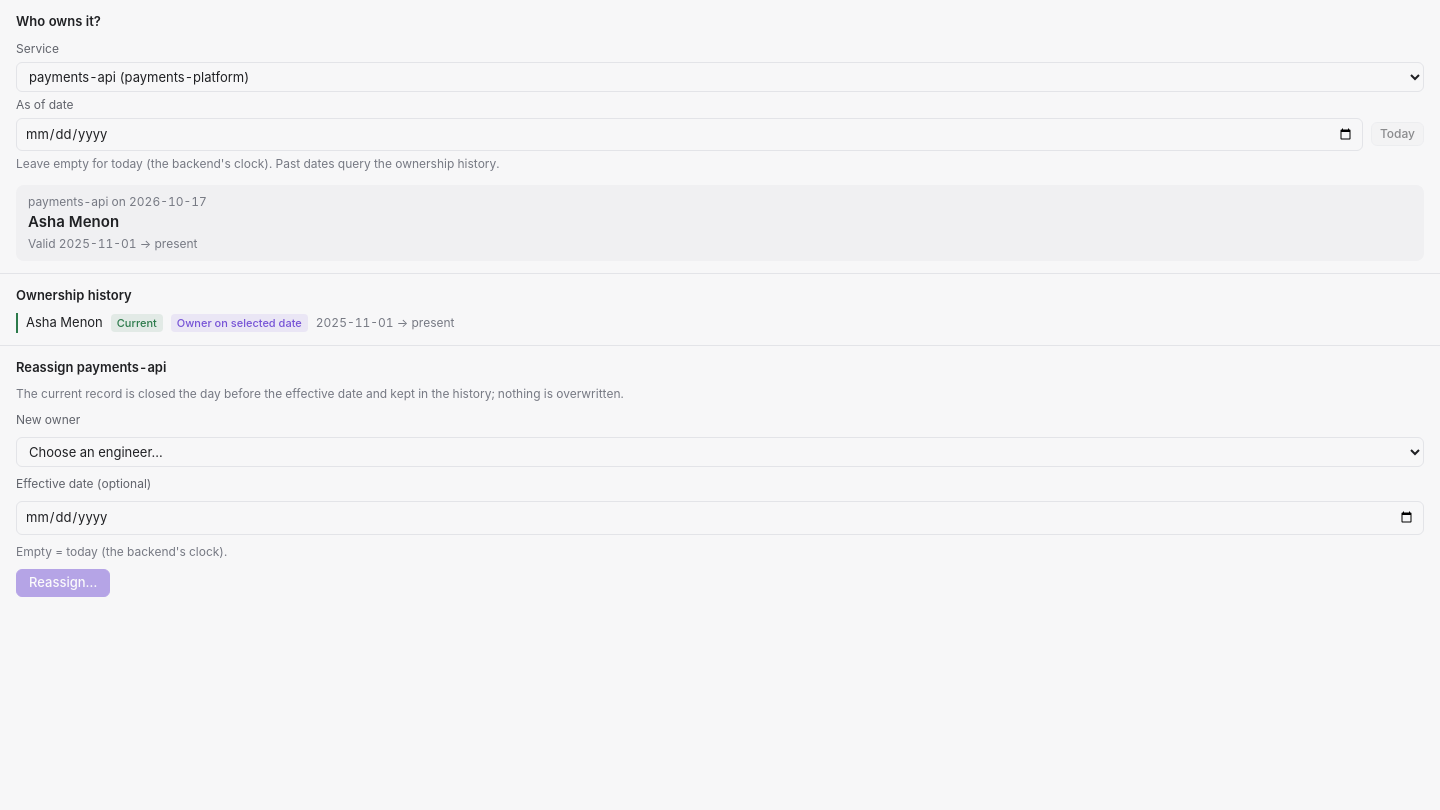
Scenario: OwnersPanel lookup › sends the chosen historical date unchanged and shows the owner the API returns for it
The image size is (1440, 810).
Expected: the text "Asha Menon" below "2026-10-17" is shown, left=28, top=212, right=119, bottom=231
Step 1. Type "2026-07-15" into the date field labelled "As of date" → (689, 134), box left=16, top=118, right=1363, bottom=151
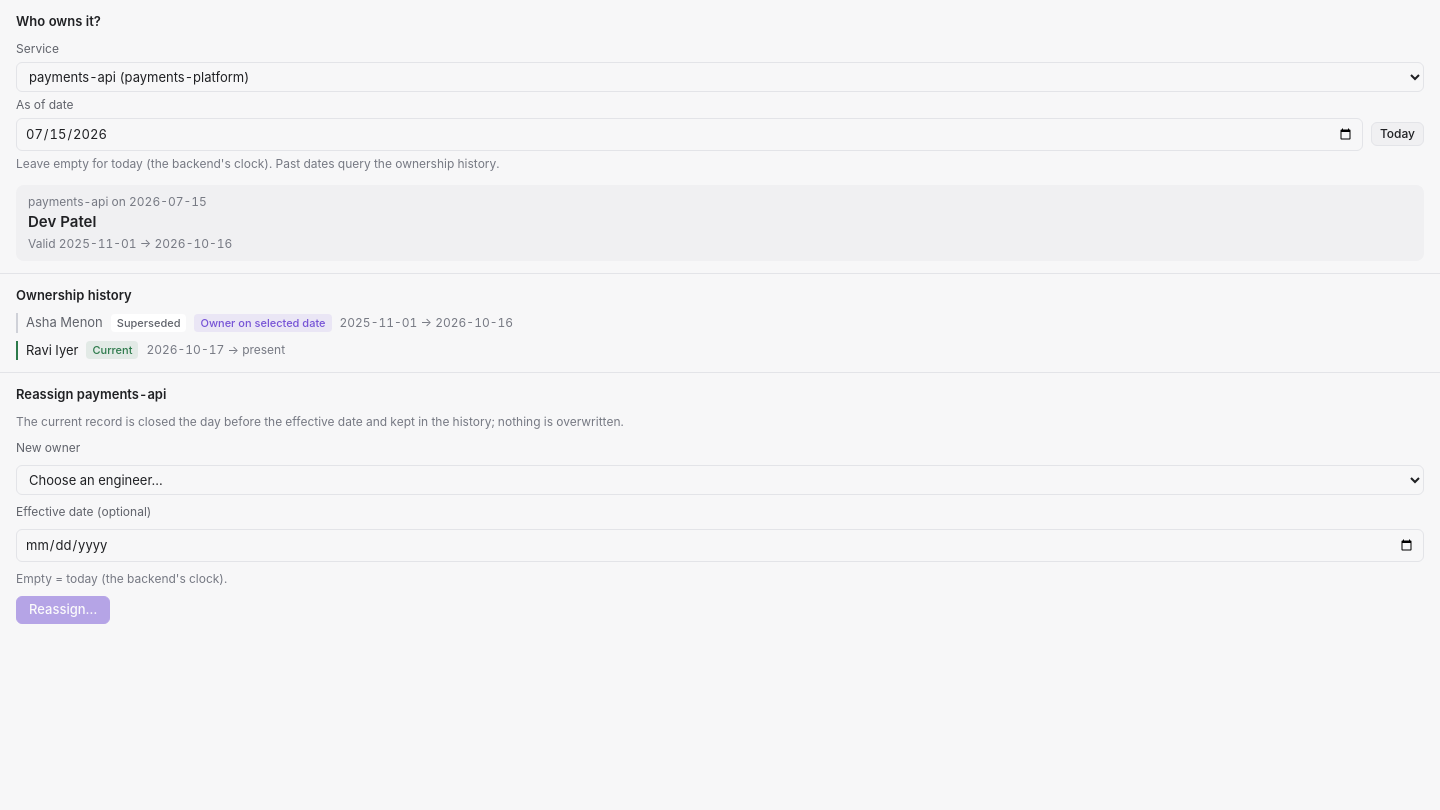
Now the text "Dev Patel" is shown, box left=28, top=212, right=96, bottom=231
Now the text "payments-api on 2026-07-15" is shown, box left=28, top=194, right=207, bottom=209
